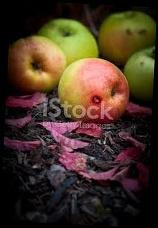rotten apple: (54, 56, 129, 122), (98, 11, 156, 61)
